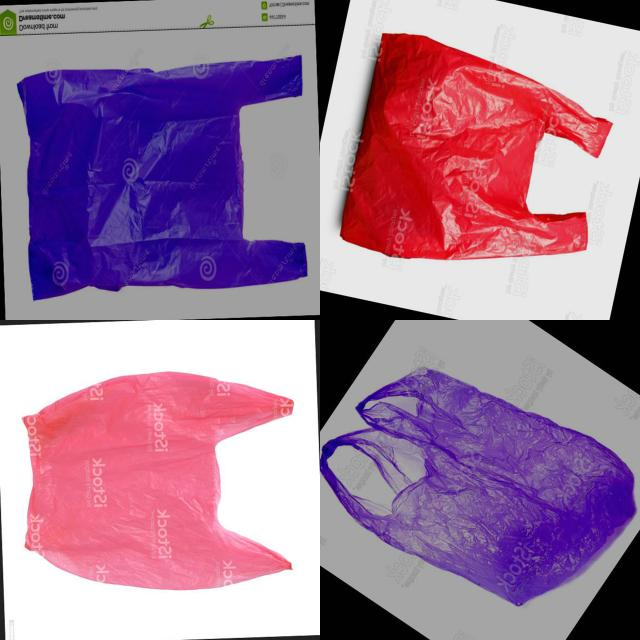Single-layer Plastic: (321, 368, 635, 605), (18, 56, 308, 300), (340, 34, 611, 260), (22, 371, 294, 590)
